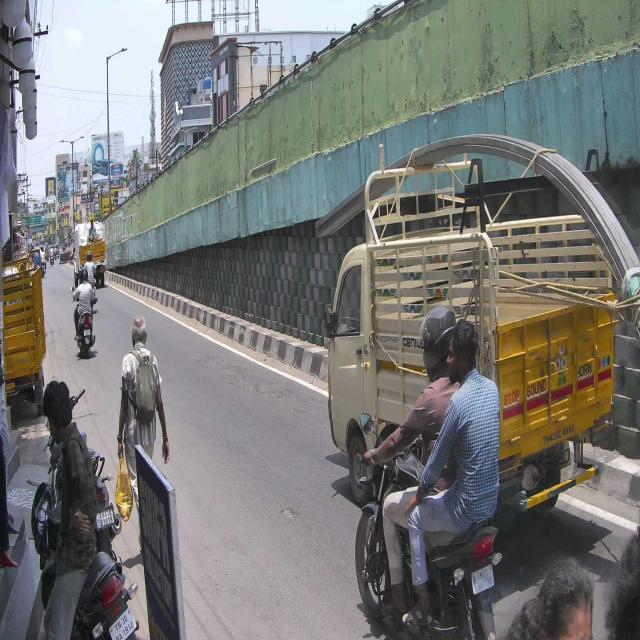double_rider: (355, 306, 503, 640)
